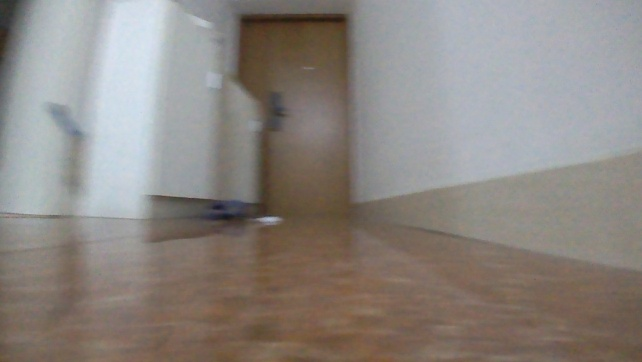door_anno: (237, 12, 353, 218)
